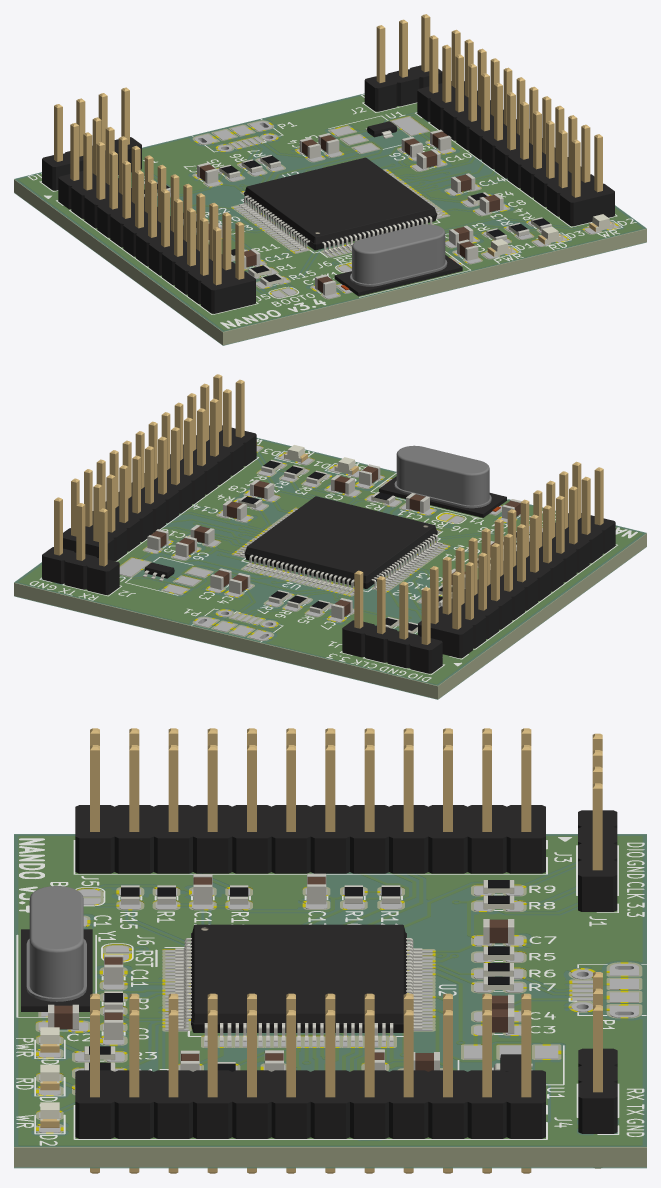
The model's file is board.glb.
3 views of the same model, one above another, from view 1: azimuth 30°, elevation 25°; view 2: azimuth 150°, elevation 25°; view 3: azimuth 270°, elevation 25° (orthographic). The views are drawn at different scales.
Visible parts, largest first — view 1: PinHeader_2x12_P254mm_Vertical (×2), board_soldermask (×2), board_PCB, board_copper, LQFP-100_14x14mm_Pitch0.5mm, Crystal_SMD_HC49-SD, board_pad, board_silkscreen, PinHeader_1x03_P254mm_Vertical, PinHeader_1x04_P254mm_Vertical; view 2: PinHeader_2x12_P254mm_Vertical (×2), board_soldermask (×2), board_PCB, board_copper, LQFP-100_14x14mm_Pitch0.5mm, Crystal_SMD_HC49-SD, PinHeader_1x04_P254mm_Vertical, board_pad, PinHeader_1x03_P254mm_Vertical, board_silkscreen; view 3: PinHeader_2x12_P254mm_Vertical (×2), board_soldermask (×2), board_copper, board_PCB, LQFP-100_14x14mm_Pitch0.5mm, board_pad, board_silkscreen, Crystal_SMD_HC49-SD, PinHeader_1x04_P254mm_Vertical, PinHeader_1x03_P254mm_Vertical, C_0805_2012Metric (×3).
Boxes of the visible parts, box(x1,y1,x2,y2) form: PinHeader_2x12_P254mm_Vertical (×2): box(58, 29, 614, 313); board_soldermask (×2): box(14, 93, 646, 345); board_PCB: box(14, 95, 646, 345); board_copper: box(19, 96, 641, 329); LQFP-100_14x14mm_Pitch0.5mm: box(239, 157, 442, 253); Crystal_SMD_HC49-SD: box(334, 224, 462, 296); board_pad: box(170, 117, 617, 298); board_silkscreen: box(27, 94, 636, 328); PinHeader_1x03_P254mm_Vertical: box(364, 14, 442, 111); PinHeader_1x04_P254mm_Vertical: box(42, 87, 141, 190); PinHeader_2x12_P254mm_Vertical (×2): box(63, 374, 615, 658); board_soldermask (×2): box(14, 438, 646, 699); board_PCB: box(14, 439, 646, 699); board_copper: box(19, 441, 641, 683); LQFP-100_14x14mm_Pitch0.5mm: box(239, 496, 442, 592); Crystal_SMD_HC49-SD: box(379, 445, 506, 517); PinHeader_1x04_P254mm_Vertical: box(342, 570, 442, 673); board_pad: box(119, 446, 542, 640); PinHeader_1x03_P254mm_Vertical: box(42, 497, 119, 594); board_silkscreen: box(29, 438, 637, 681); PinHeader_2x12_P254mm_Vertical (×2): box(75, 728, 545, 1173); board_soldermask (×2): box(14, 834, 646, 1168); board_copper: box(19, 836, 641, 1145); board_PCB: box(14, 835, 646, 1167); LQFP-100_14x14mm_Pitch0.5mm: box(175, 924, 422, 1041); board_pad: box(38, 886, 638, 1132); board_silkscreen: box(16, 837, 646, 1145); Crystal_SMD_HC49-SD: box(21, 886, 92, 1011); PinHeader_1x04_P254mm_Vertical: box(578, 733, 617, 911); PinHeader_1x03_P254mm_Vertical: box(578, 972, 617, 1168); C_0805_2012Metric (×3): box(48, 873, 514, 1029).
Size of the model in its own units: 0.048 by 0.0115 by 0.041.
